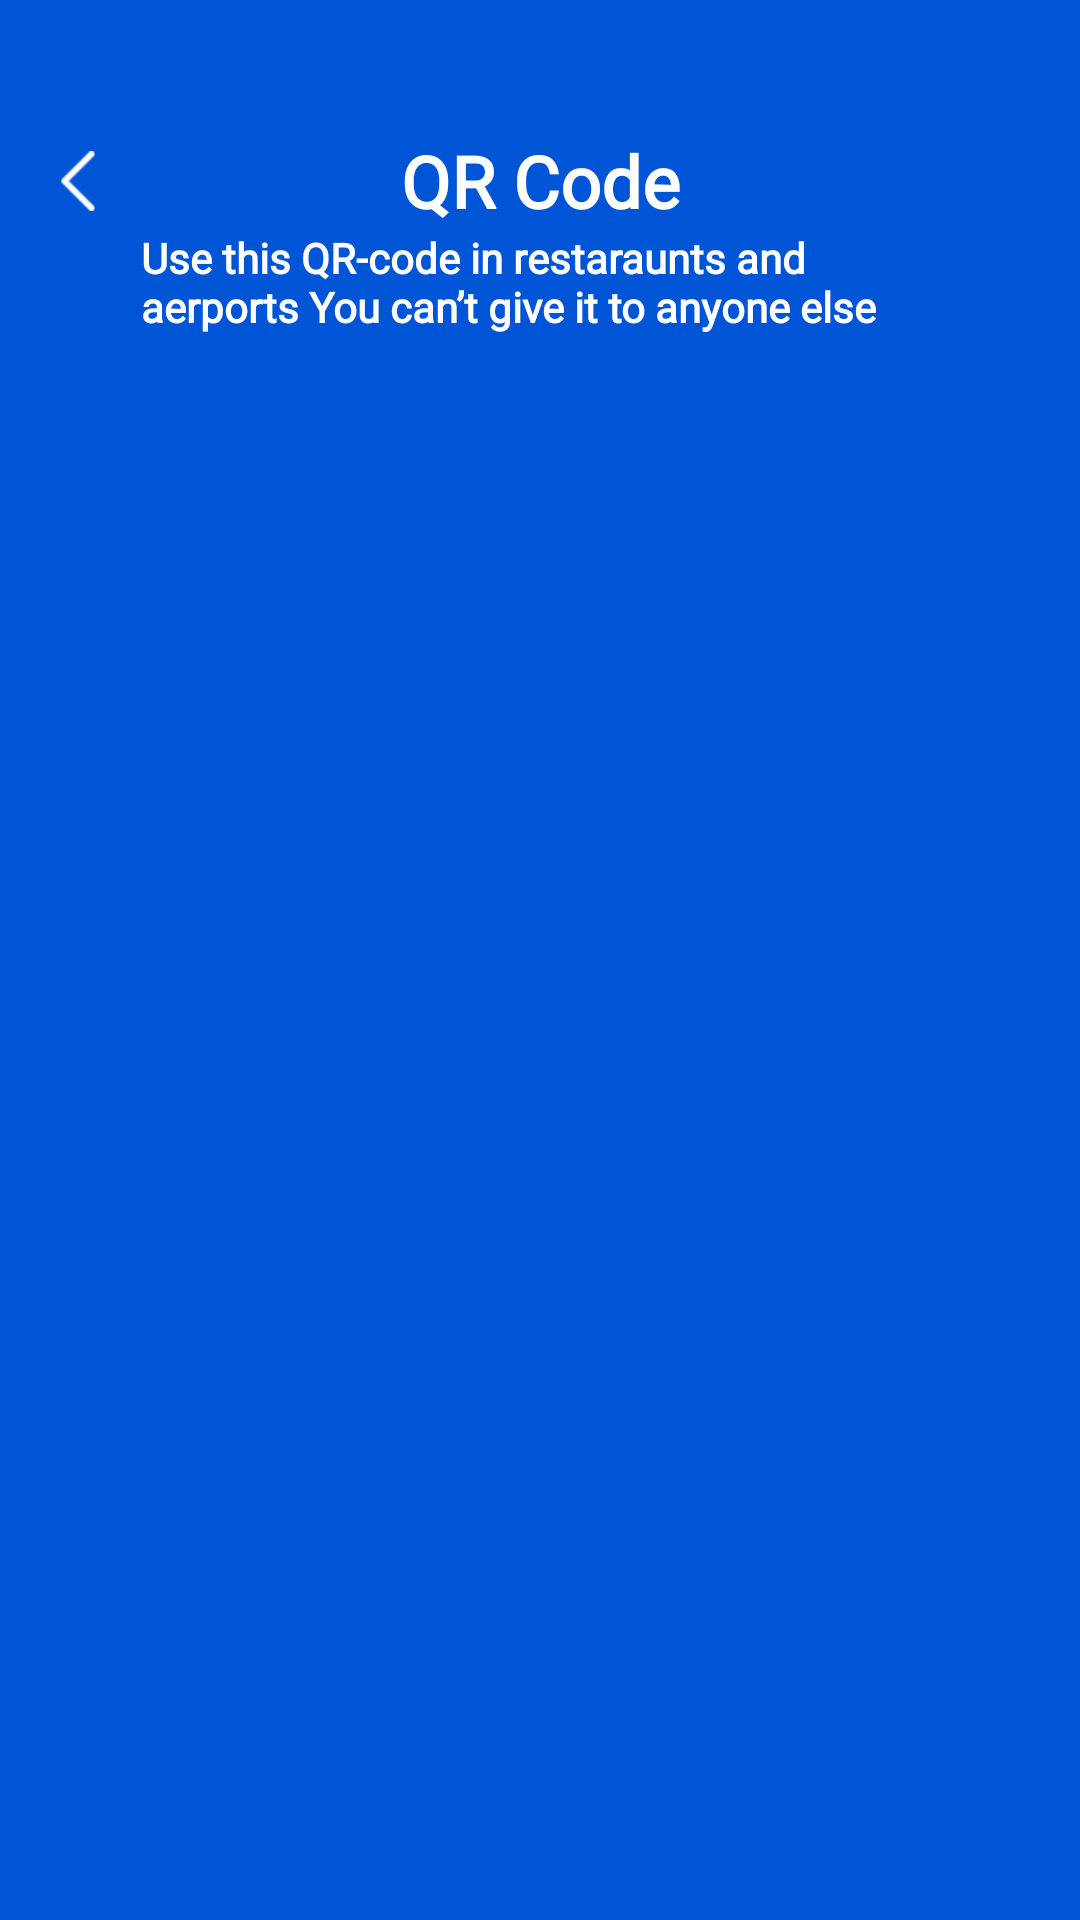

Named icons in this screenshot (1080*1920) and their bounding boxes, (x1, y1, x2, y2):
left: (61, 151, 95, 211)
